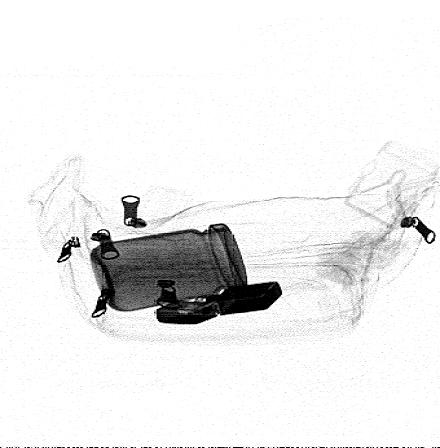Lighter: (155, 281, 284, 326)
